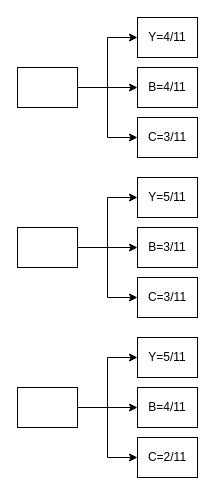
This 215x495 diagram has some shape labels left out. Here are the shapes that lost their labels. From the top down, the centre of each, then its label:
At [47,87]: "Y=5/12".
At [47,247]: "B=4/12".
At [47,407]: "C=3/12".
